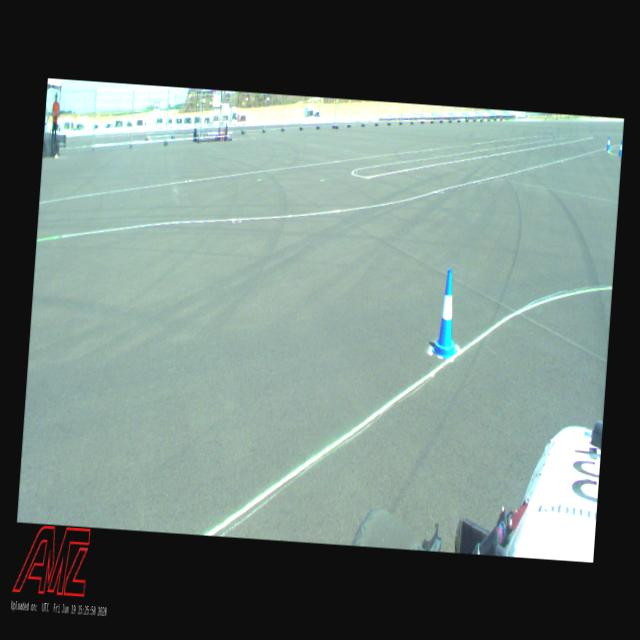blue_cone: (431, 266, 463, 361), (606, 136, 611, 150), (618, 140, 622, 156)
